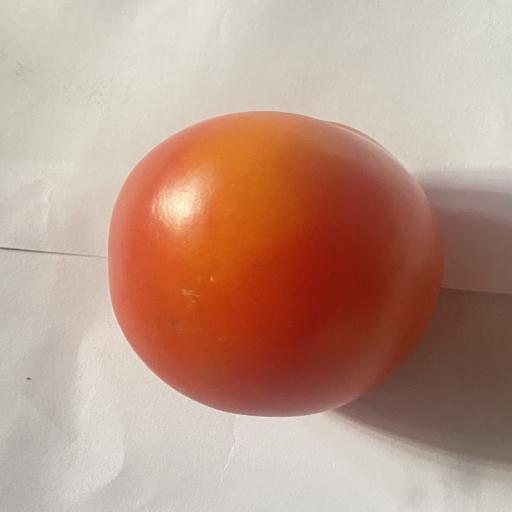ripe: (108, 112, 443, 416)
